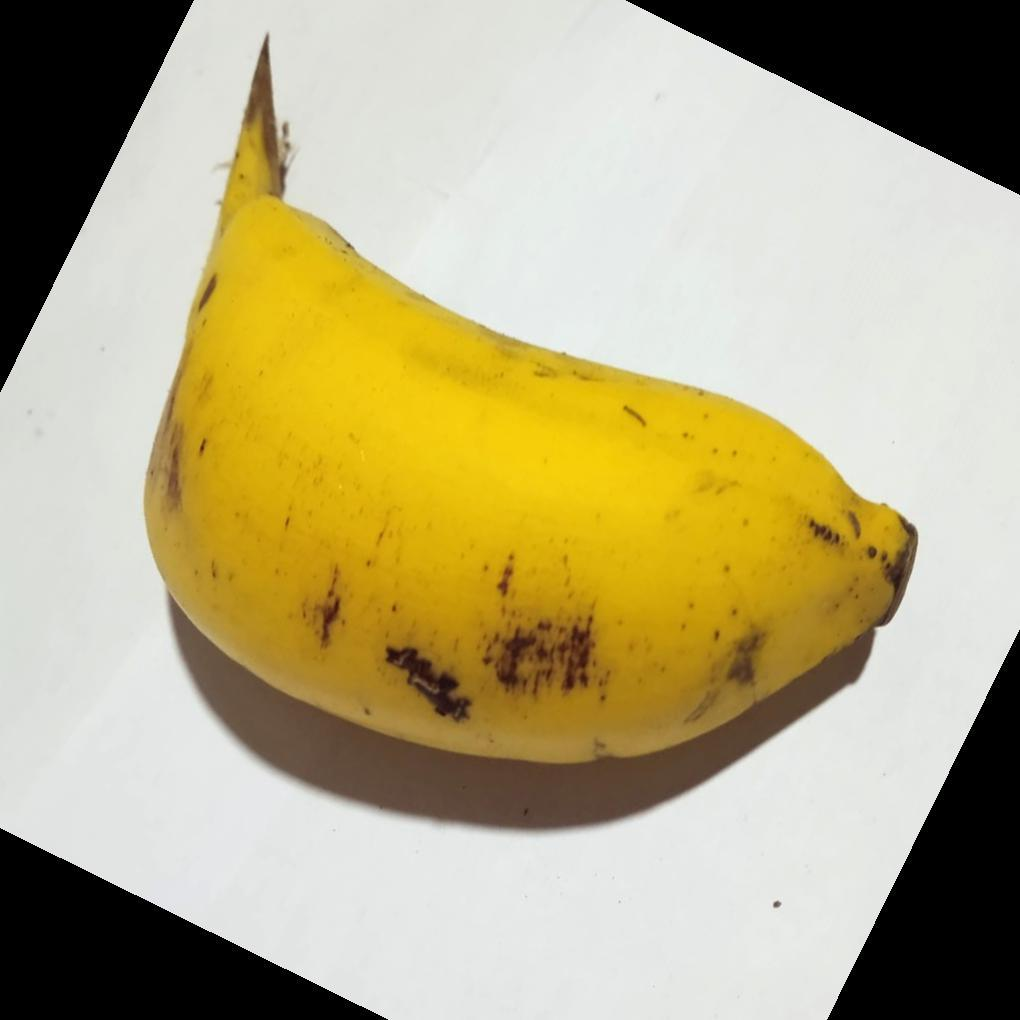Banana Ripe: (146, 34, 926, 766)
